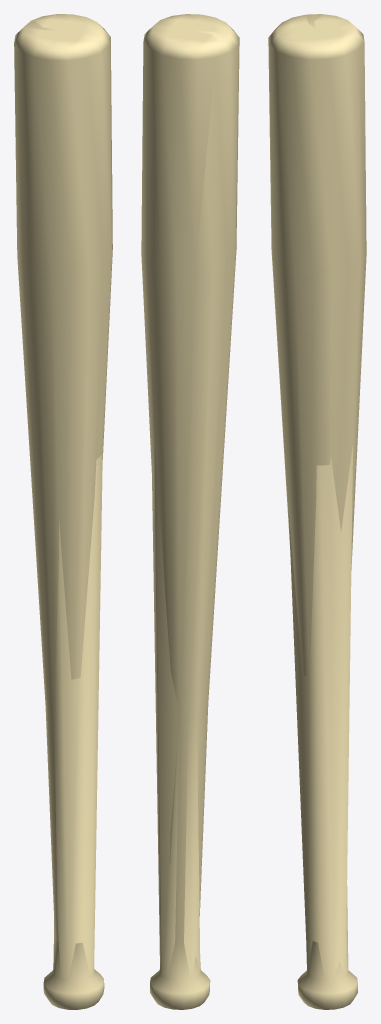
File: item_baseball_bat.glb
3 renders of one model, left to right at view 1: azimuth 30°, elevation 25°; view 2: azimuth 210°, elevation 25°; view 3: azimuth 330°, elevation 25°, orthographic.
Parts seen in each view (by area): view 1: baseballBat; view 2: baseballBat; view 3: baseballBat.
Part boxes in pixels (x1,y1,x2,y2): baseballBat: (14,14,112,1009); baseballBat: (141,14,239,1009); baseballBat: (268,14,366,1009).
Size of the model in its own units: 0.0828 by 0.888 by 0.0808.
